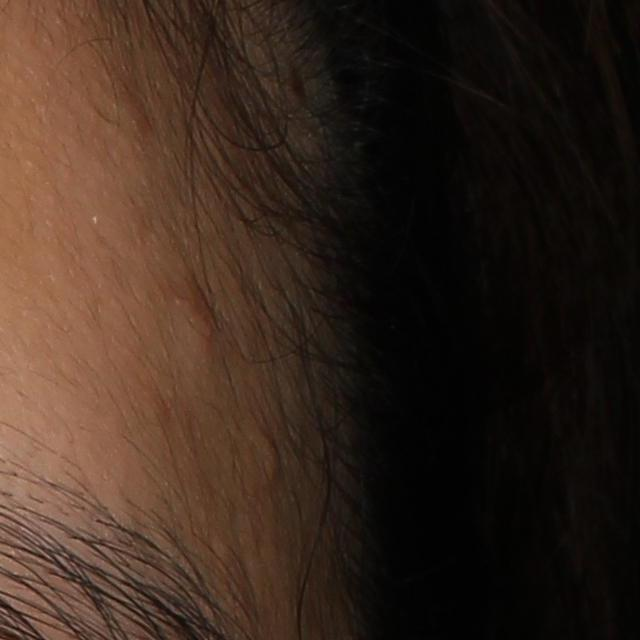papule: (185, 296, 220, 355), (258, 428, 286, 484)
